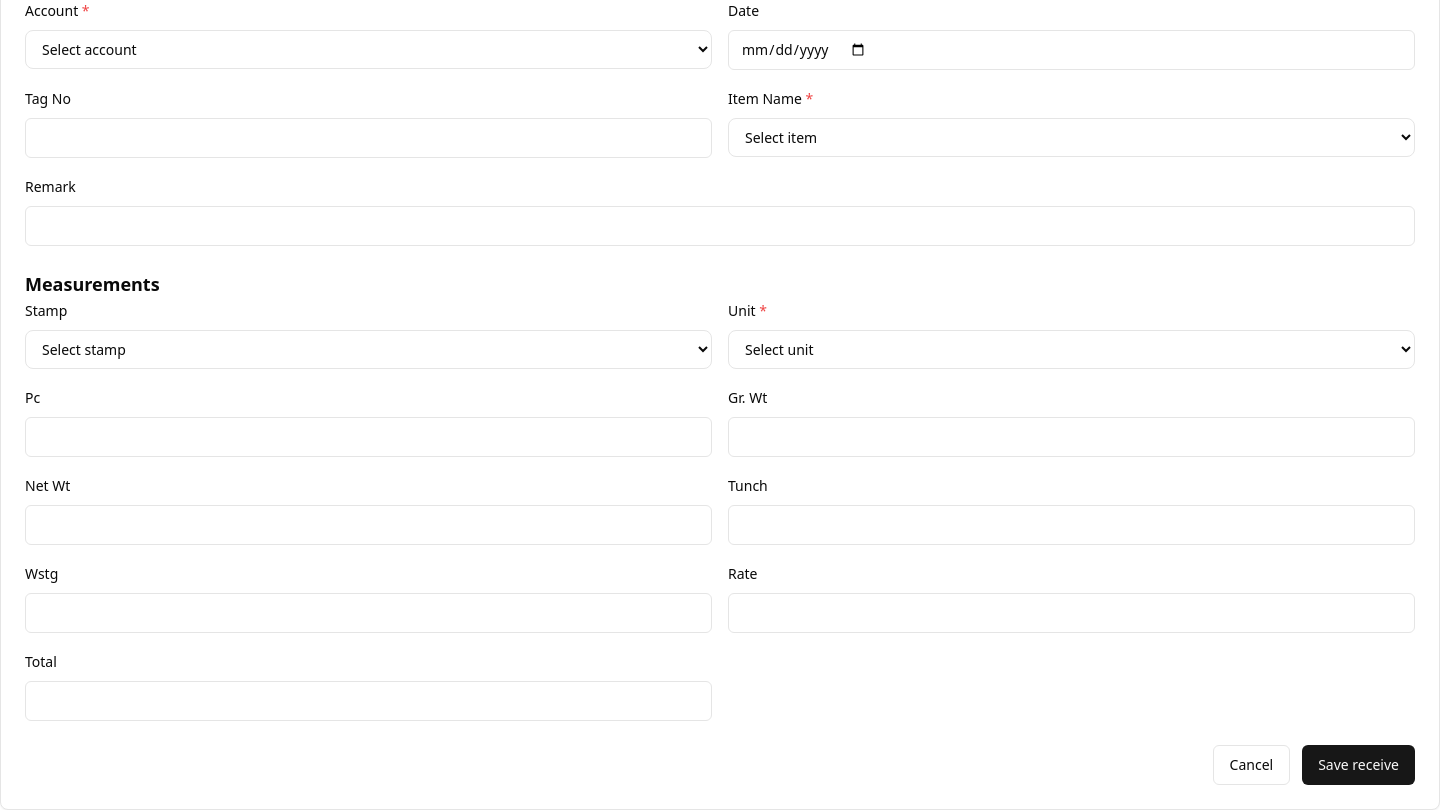
Test: ReceiveForm › Auto-calculation › calculates total from netWt and rate
(page scrolled)
Type "10" into the number field labelled "Net Wt" at (368, 525), box [25, 505, 712, 545]
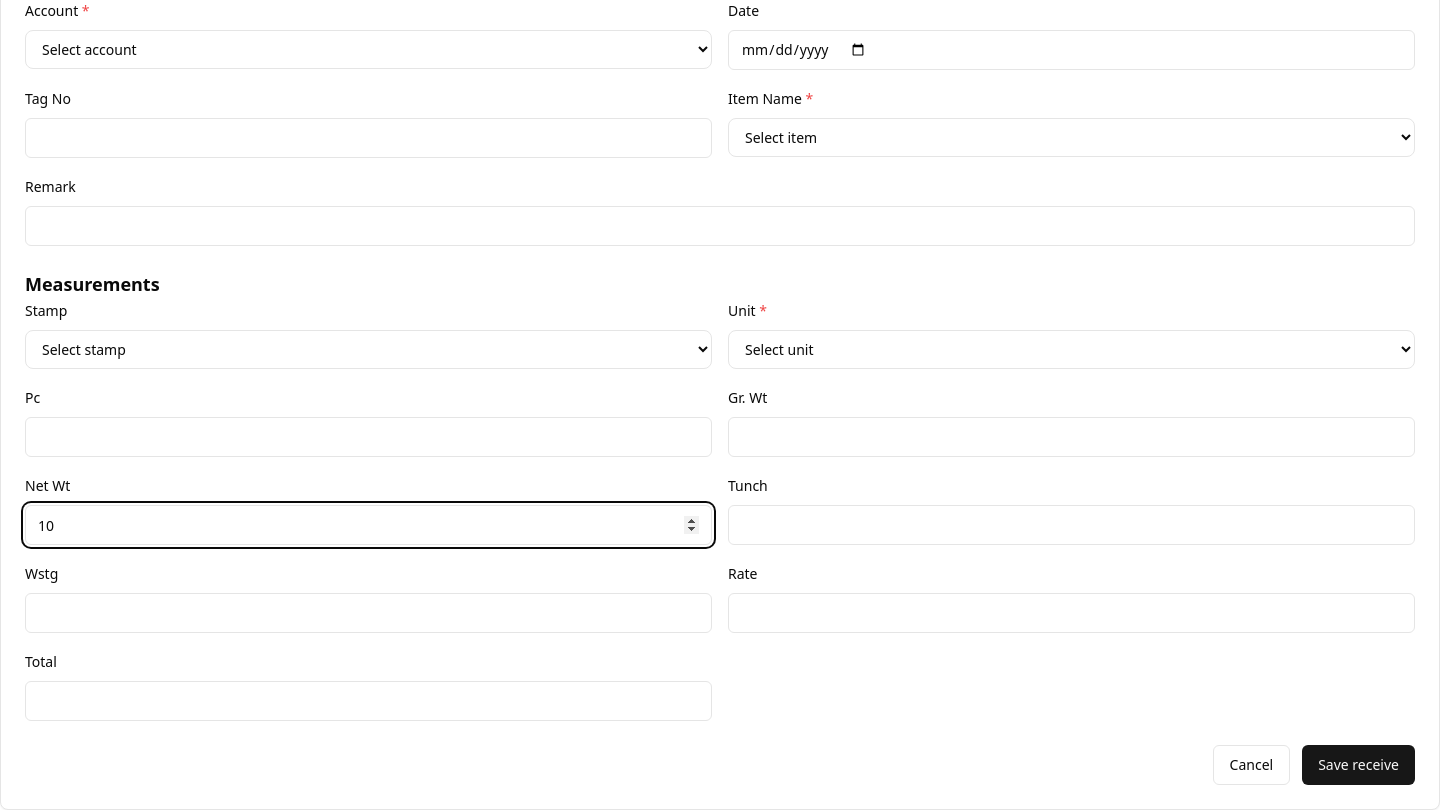
Type "5000" into the number field labelled "Rate" at (1072, 613), box [728, 593, 1415, 633]
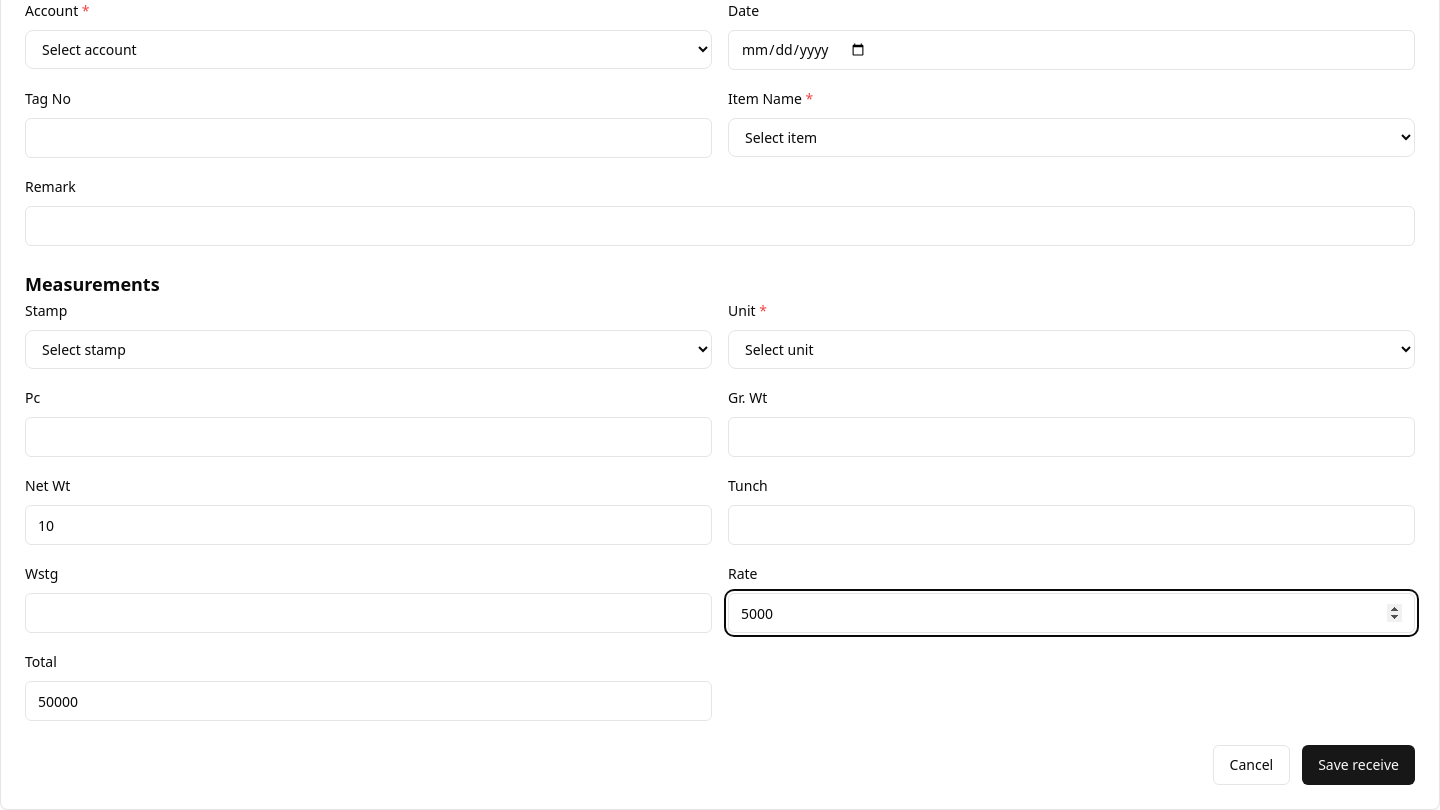
expect the number field labelled "Total" holds "50000": met, box [25, 681, 712, 721]
